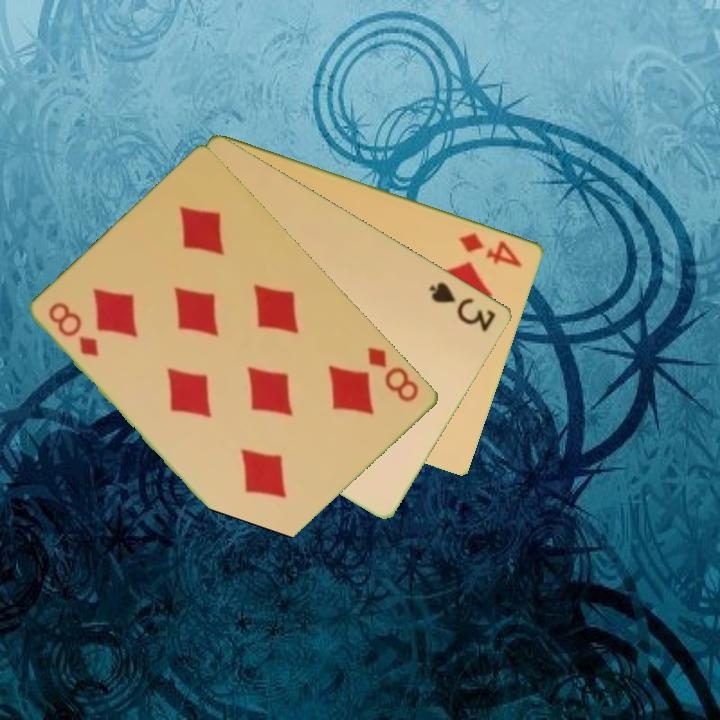3s: (426, 278, 500, 335)
4d: (456, 228, 526, 270)
8d: (364, 343, 423, 405), (45, 298, 103, 360)
